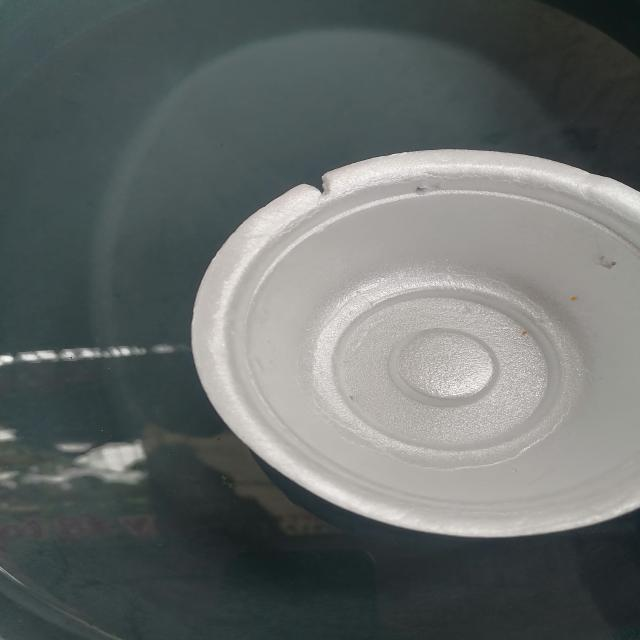Styrofoam Container: (170, 132, 640, 545)
